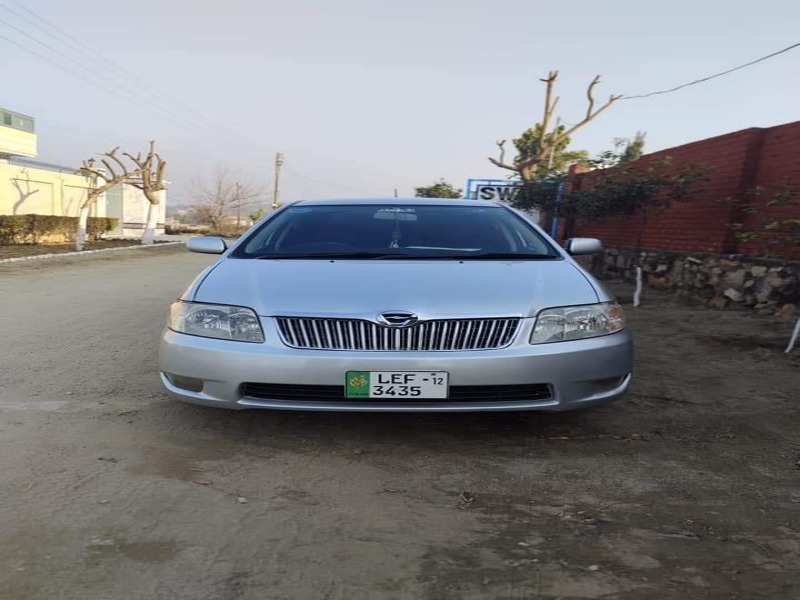License Plate: (339, 366, 452, 411)
